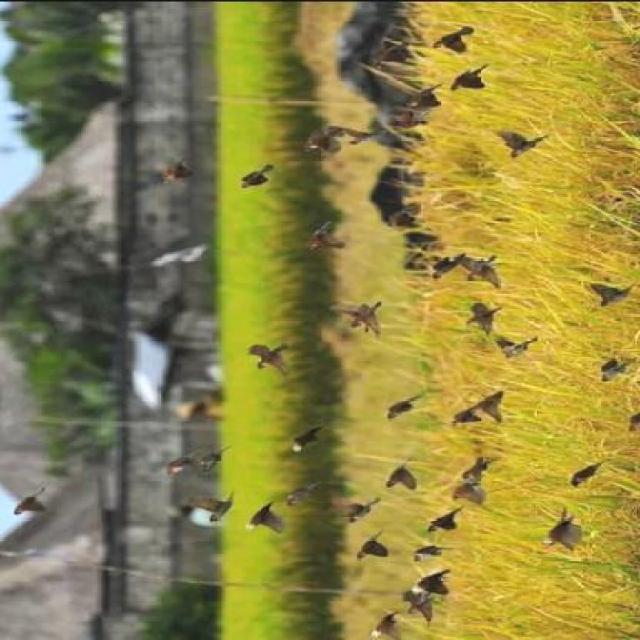Bird: (334, 298, 390, 340), (540, 511, 588, 552), (494, 128, 549, 161), (184, 490, 236, 522), (248, 341, 291, 379), (334, 494, 383, 525), (461, 256, 504, 291), (304, 219, 348, 253), (431, 23, 476, 56), (447, 62, 492, 94), (465, 300, 503, 337), (244, 501, 286, 534), (355, 528, 393, 563), (589, 280, 634, 309), (384, 392, 426, 423), (411, 569, 458, 596), (425, 504, 467, 534), (401, 589, 436, 625), (383, 458, 419, 492), (324, 124, 377, 147), (494, 336, 540, 362), (406, 81, 444, 112), (570, 460, 607, 491), (12, 486, 50, 516), (368, 610, 407, 639), (291, 424, 325, 455), (302, 130, 342, 156), (240, 162, 277, 190), (159, 157, 194, 186), (451, 482, 490, 508), (599, 356, 633, 385), (431, 253, 465, 282), (286, 482, 324, 506), (461, 456, 497, 481), (479, 390, 505, 424), (411, 544, 453, 565), (200, 445, 232, 472), (449, 405, 483, 427), (166, 453, 196, 477)
